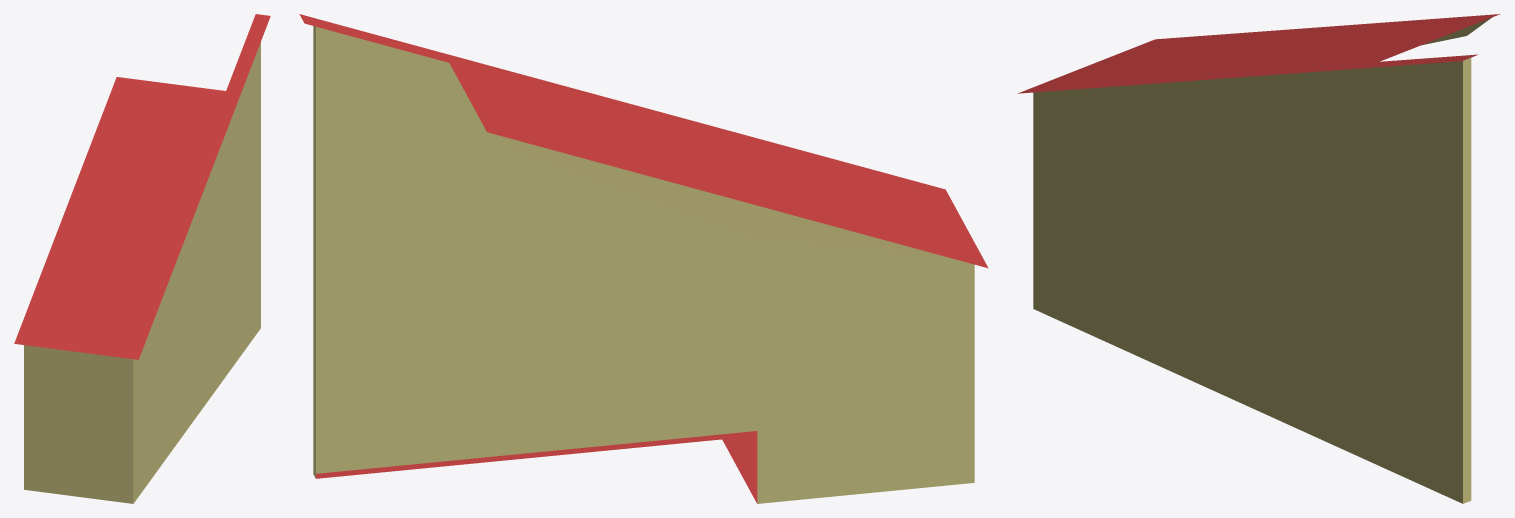
3 views of the same model, side by side, from view 1: azimuth 30°, elevation 25°; view 2: azimuth 150°, elevation 25°; view 3: azimuth 270°, elevation 25° (orthographic). The views are drawn at different scales.
Bounding box in the file's own units: 13.22 × 10.54 × 10.81.
